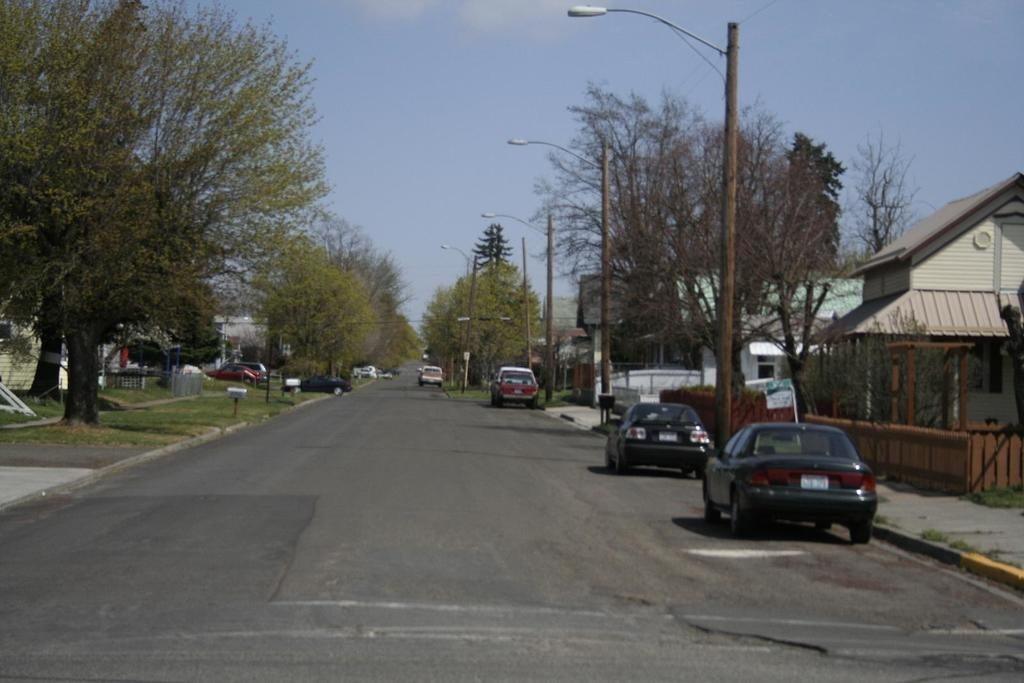Car: (696, 419, 886, 543), (604, 398, 711, 473), (283, 371, 351, 396), (203, 362, 258, 385), (224, 359, 266, 381)
